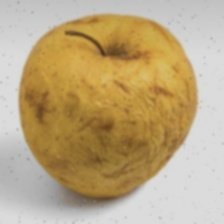apple: (36, 25, 219, 184)
